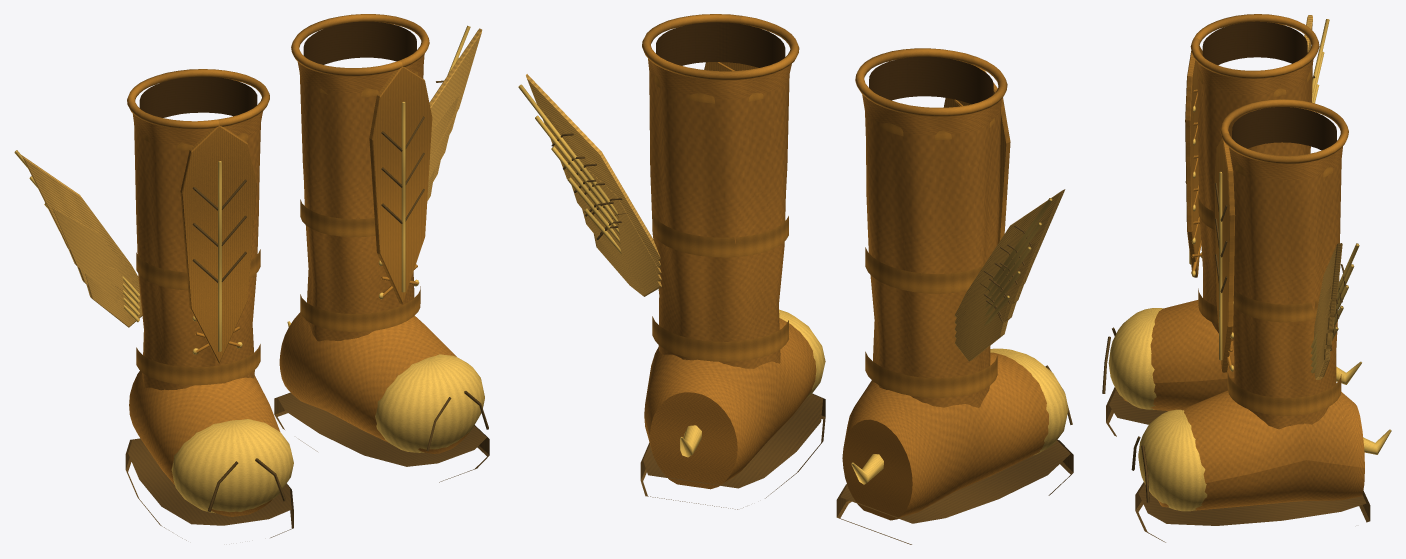
Rendered from roc_boots.glb.
3 views of the same model, side by side, from view 1: azimuth 30°, elevation 25°; view 2: azimuth 150°, elevation 25°; view 3: azimuth 270°, elevation 25° (orthographic). The views are drawn at different scales.
Parts seen in each view (by area): view 1: Open leather boot shaft (×2), Gold front boot greave (×2), Golden Roc boot sculpted foot (×2), Gold Roc boot rounded toe cap (×2), Sculpted overlapping Roc wing feather (×5), Thick stitched boot sole (×2), Dark visible inside cuff (×2), Boot fitted horizontal strap (×4), Boot cuff rolled outer seam (×2), Greave golden feather center (×2); view 2: Open leather boot shaft (×2), Golden Roc boot sculpted foot (×2), Sculpted overlapping Roc wing feather (×8), Closed sculpted boot heel (×2), Boot fitted horizontal strap (×4), Dark visible inside cuff (×2), Thick stitched boot sole (×2), Boot cuff rolled outer seam (×2), Gold Roc boot rounded toe cap (×2), Gold front boot greave, Raised Roc feather gold quill; view 3: Open leather boot shaft (×2), Golden Roc boot sculpted foot (×2), Gold Roc boot rounded toe cap (×2), Dark visible inside cuff (×2), Gold front boot greave (×2), Thick stitched boot sole (×2), Boot cuff rolled outer seam (×2), Boot fitted horizontal strap (×3), Sculpted overlapping Roc wing feather (×3), Greave golden feather center.
Boxes of the visible parts, box(x1,y1,x2,y2) form: Open leather boot shaft (×2): box(132, 54, 424, 390); Gold front boot greave (×2): box(180, 66, 432, 363); Golden Roc boot sculpted foot (×2): box(129, 312, 469, 516); Gold Roc boot rounded toe cap (×2): box(171, 354, 484, 513); Sculpted overlapping Roc wing feather (×5): box(21, 28, 482, 327); Thick stitched boot sole (×2): box(125, 392, 489, 540); Dark visible inside cuff (×2): box(139, 21, 416, 117); Boot fitted horizontal strap (×4): box(136, 199, 420, 385); Boot cuff rolled outer seam (×2): box(127, 14, 429, 129); Greave golden feather center (×2): box(218, 101, 405, 351); Open leather boot shaft (×2): box(648, 59, 1001, 407); Golden Roc boot sculpted foot (×2): box(644, 318, 1048, 519); Sculpted overlapping Roc wing feather (×8): box(526, 74, 1065, 361); Closed sculpted boot heel (×2): box(649, 392, 912, 520); Boot fitted horizontal strap (×4): box(652, 212, 997, 397); Dark visible inside cuff (×2): box(656, 22, 993, 104); Thick stitched boot sole (×2): box(640, 393, 1073, 544); Boot cuff rolled outer seam (×2): box(642, 14, 1007, 116); Gold Roc boot rounded toe cap (×2): box(779, 309, 1068, 455); Gold front boot greave: box(943, 65, 1010, 243); Raised Roc feather gold quill: box(518, 84, 618, 217); Open leather boot shaft (×2): box(1196, 60, 1342, 429); Golden Roc boot sculpted foot (×2): box(1123, 300, 1364, 510); Gold Roc boot rounded toe cap (×2): box(1108, 308, 1207, 511); Dark visible inside cuff (×2): box(1202, 21, 1336, 150); Gold front boot greave (×2): box(1185, 46, 1235, 372); Thick stitched boot sole (×2): box(1106, 387, 1370, 542); Boot cuff rolled outer seam (×2): box(1190, 14, 1348, 163); Boot fitted horizontal strap (×3): box(1198, 288, 1341, 415); Sculpted overlapping Roc wing feather (×3): box(1314, 243, 1342, 379); Greave golden feather center: box(1219, 171, 1222, 360).
Bounding box in the file's own units: 71.57 × 55.85 × 38.3.
7 materials, 7 textured.
